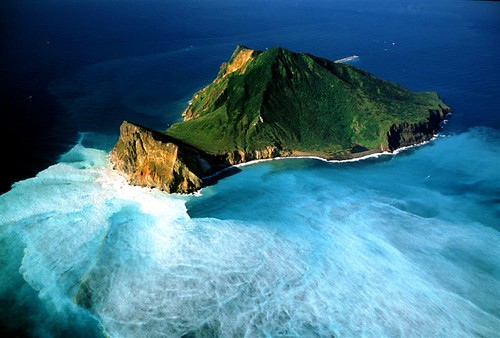turtleIslandTop: (107, 43, 467, 197)
